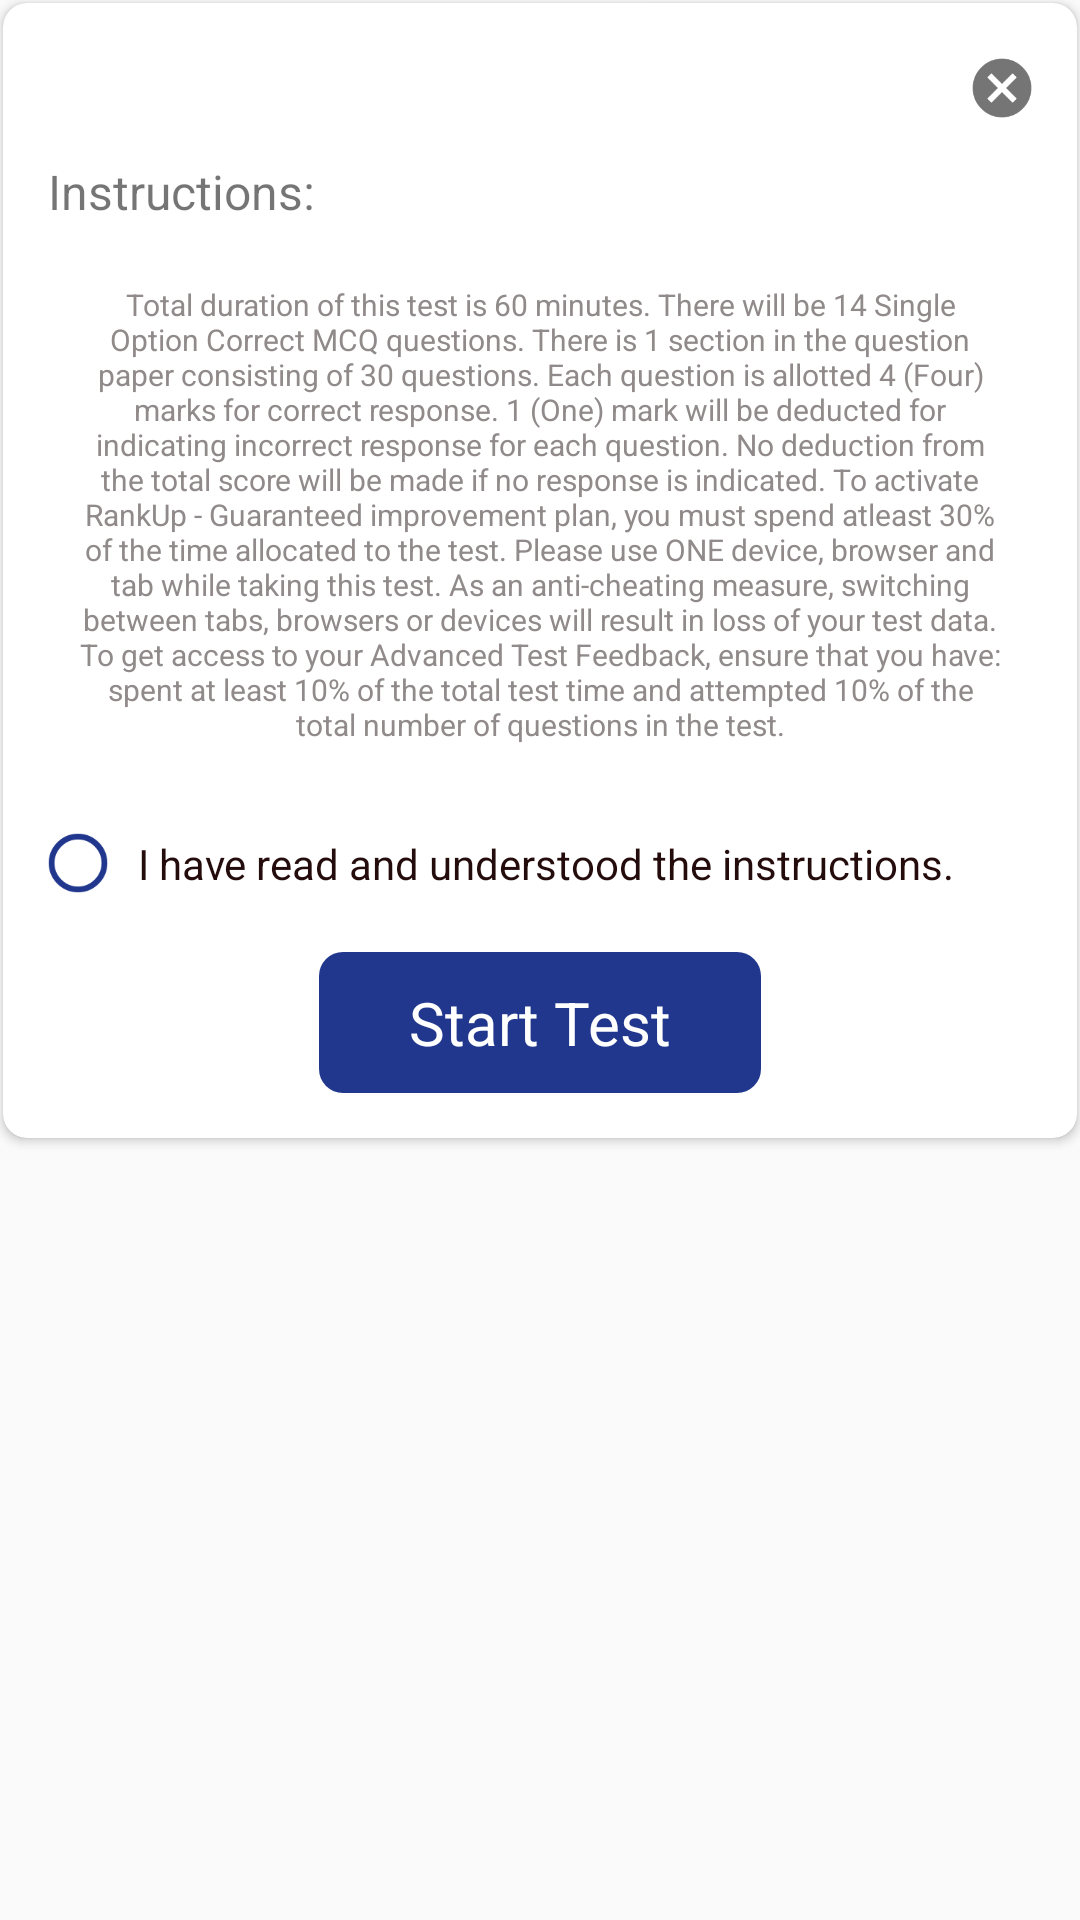

Icon bounding boxes for this 1080w x 1920h phone screenshot, format region(x1, y1, x2, y2):
dismiss: region(972, 58, 1032, 118)
